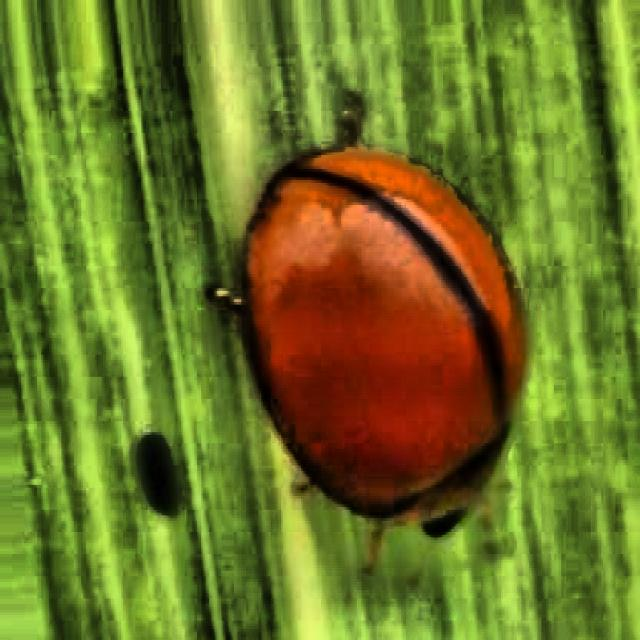Ladybug: (229, 89, 527, 584)
